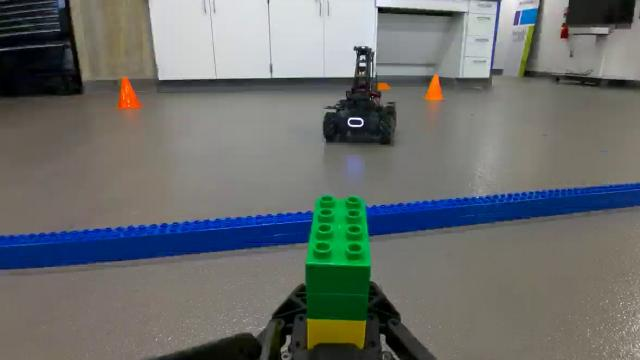robot: (319, 42, 398, 148)
